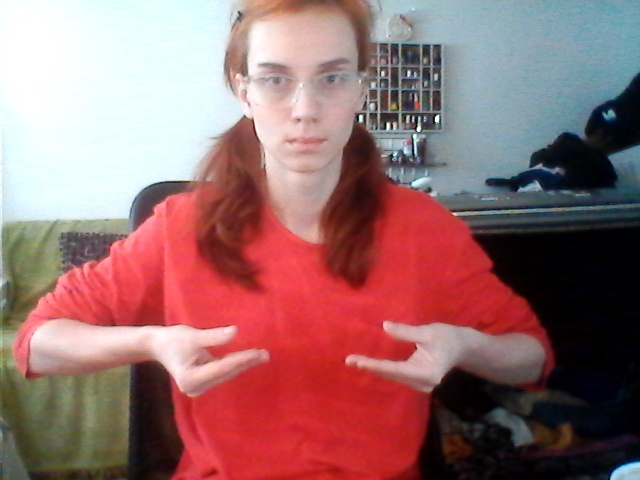drzat: (163, 314, 455, 403)
